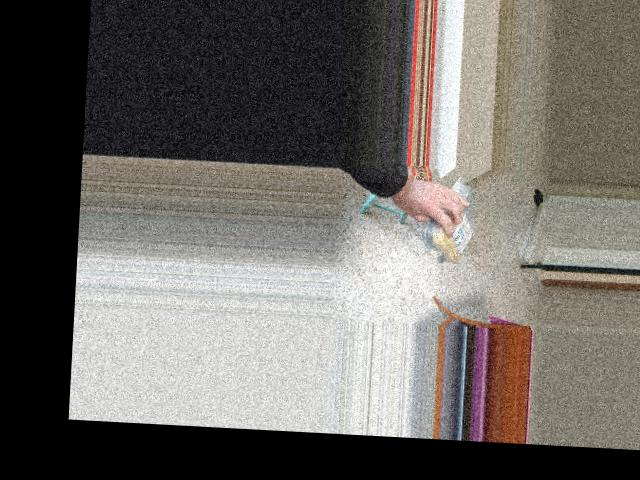cheese: (430, 175, 477, 264)
